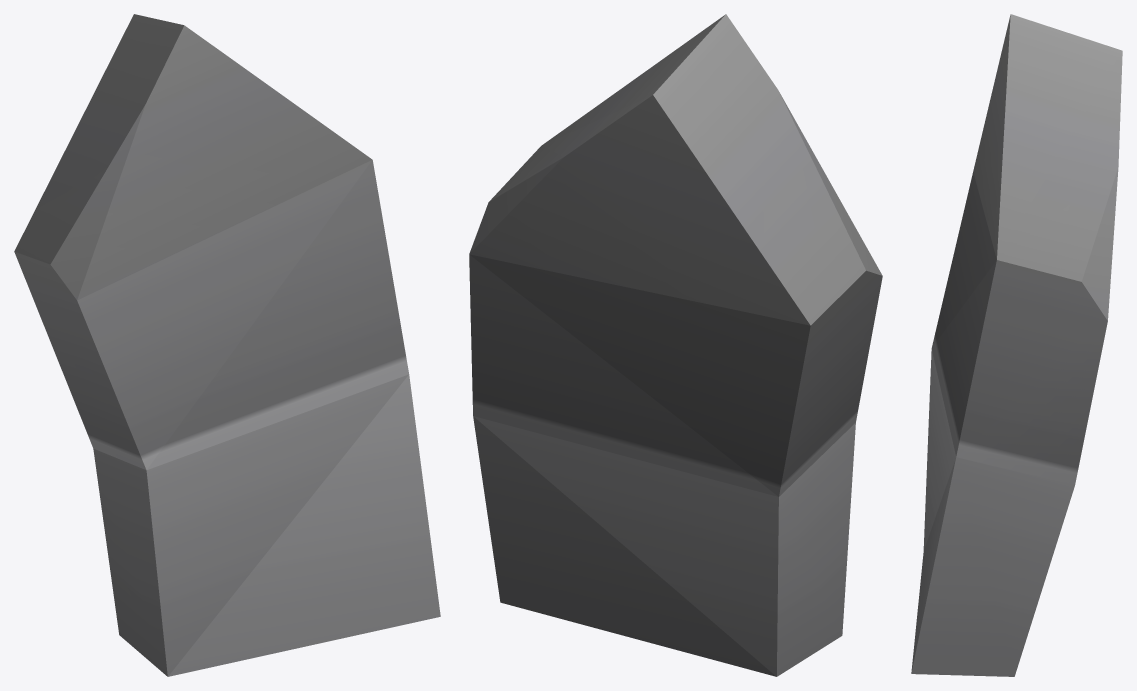
File: ea_grave_stone_mini_01c_pre__1__1_lev1.glb
3 views of the same model, side by side, from view 1: azimuth 30°, elevation 25°; view 2: azimuth 150°, elevation 25°; view 3: azimuth 270°, elevation 25° (orthographic). The views are drawn at different scales.
Visible parts, largest first — view 1: ea_grave_stone_mini_01c_pre__1__1_lev1; view 2: ea_grave_stone_mini_01c_pre__1__1_lev1; view 3: ea_grave_stone_mini_01c_pre__1__1_lev1.
Part boxes in pixels (x1=…): ea_grave_stone_mini_01c_pre__1__1_lev1: x1=14, y1=14, x2=440, y2=676; ea_grave_stone_mini_01c_pre__1__1_lev1: x1=469, y1=14, x2=882, y2=676; ea_grave_stone_mini_01c_pre__1__1_lev1: x1=911, y1=14, x2=1122, y2=676.
Bounding box in the file's own units: 0.843 × 1.42 × 0.4788.
1 material, 1 textured.
